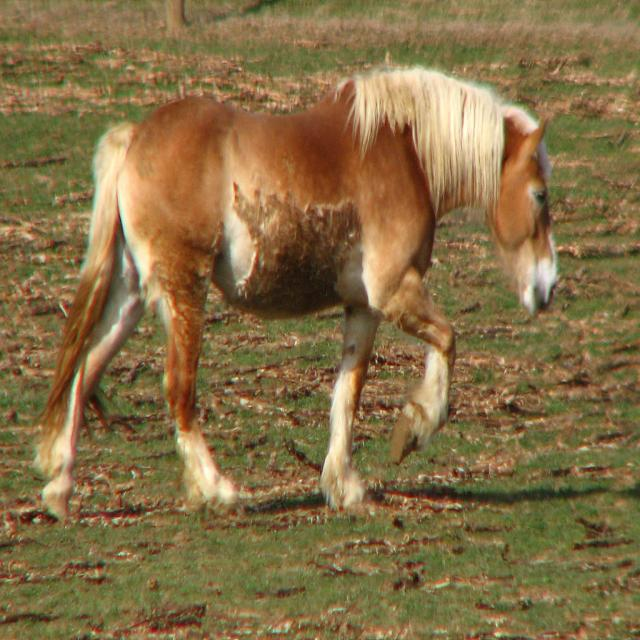Horse: (29, 64, 558, 517)
